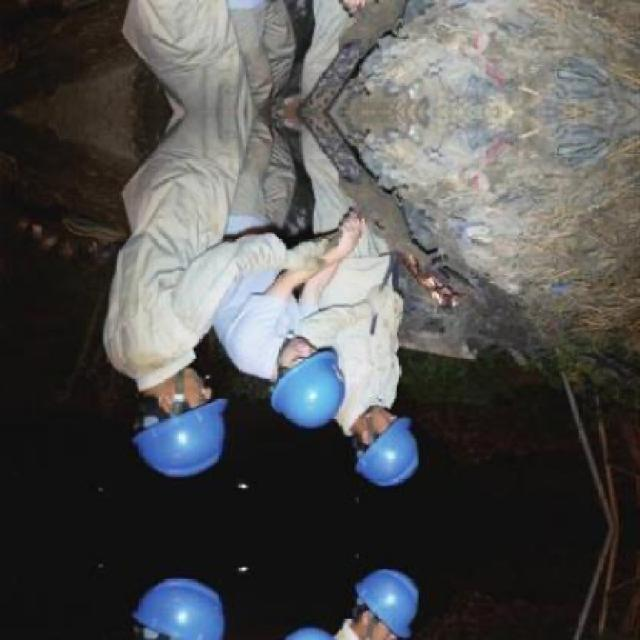con casco: (86, 336, 255, 508), (249, 272, 389, 424), (332, 406, 432, 489)
